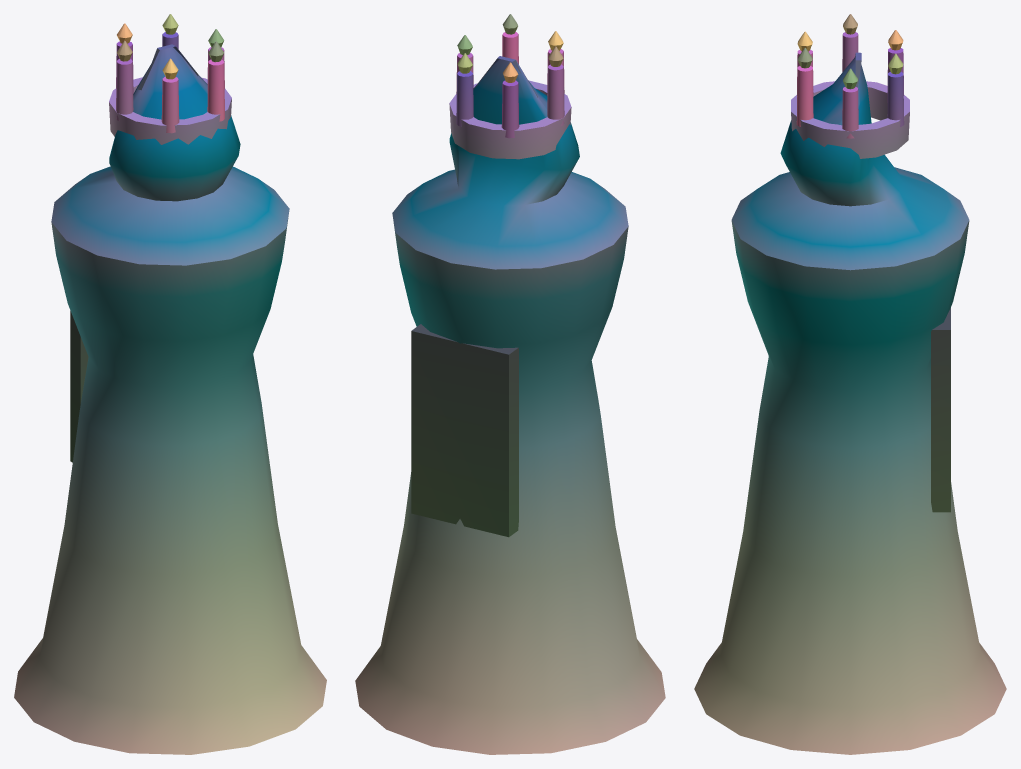
Rendered from char_aveline.glb.
3 views of the same model, side by side, from view 1: azimuth 30°, elevation 25°; view 2: azimuth 150°, elevation 25°; view 3: azimuth 270°, elevation 25° (orthographic).
Parts seen in each view (by area): view 1: aveline, crown, apron, crown_candle.005, crown_candle.003, crown_candle.004; view 2: aveline, apron, crown, crown_candle.003, crown_candle.002, crown_candle.001; view 3: aveline, crown, apron, crown_candle.005, crown_candle.001, crown_candle.
Part boxes in pixels (bbox=[...]): aveline: bbox=[14, 44, 326, 754]; crown: bbox=[109, 77, 231, 144]; apron: bbox=[70, 311, 88, 462]; crown_candle.005: bbox=[207, 59, 224, 121]; crown_candle.003: bbox=[116, 59, 133, 121]; crown_candle.004: bbox=[161, 76, 179, 133]; aveline: bbox=[355, 56, 665, 754]; apron: bbox=[411, 324, 518, 537]; crown: bbox=[449, 80, 571, 159]; crown_candle.003: bbox=[547, 64, 564, 126]; crown_candle.002: bbox=[501, 80, 519, 138]; crown_candle.001: bbox=[456, 71, 473, 126]; aveline: bbox=[694, 52, 1006, 754]; crown: bbox=[791, 81, 909, 158]; apron: bbox=[931, 307, 950, 512]; crown_candle.005: bbox=[796, 66, 813, 126]; crown_candle.001: bbox=[887, 72, 904, 126]; crown_candle: bbox=[842, 86, 858, 138].
Bounding box in the file's own units: 0.7772 × 1.79 × 0.7772.
